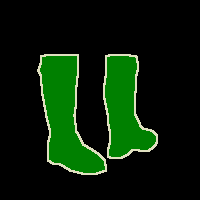shoe: (38, 54, 106, 174), (104, 54, 157, 158)
